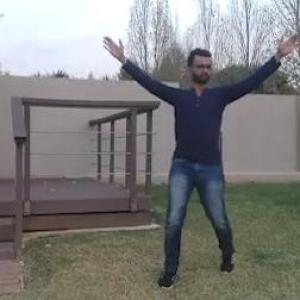takeoff: (90, 24, 300, 292)
